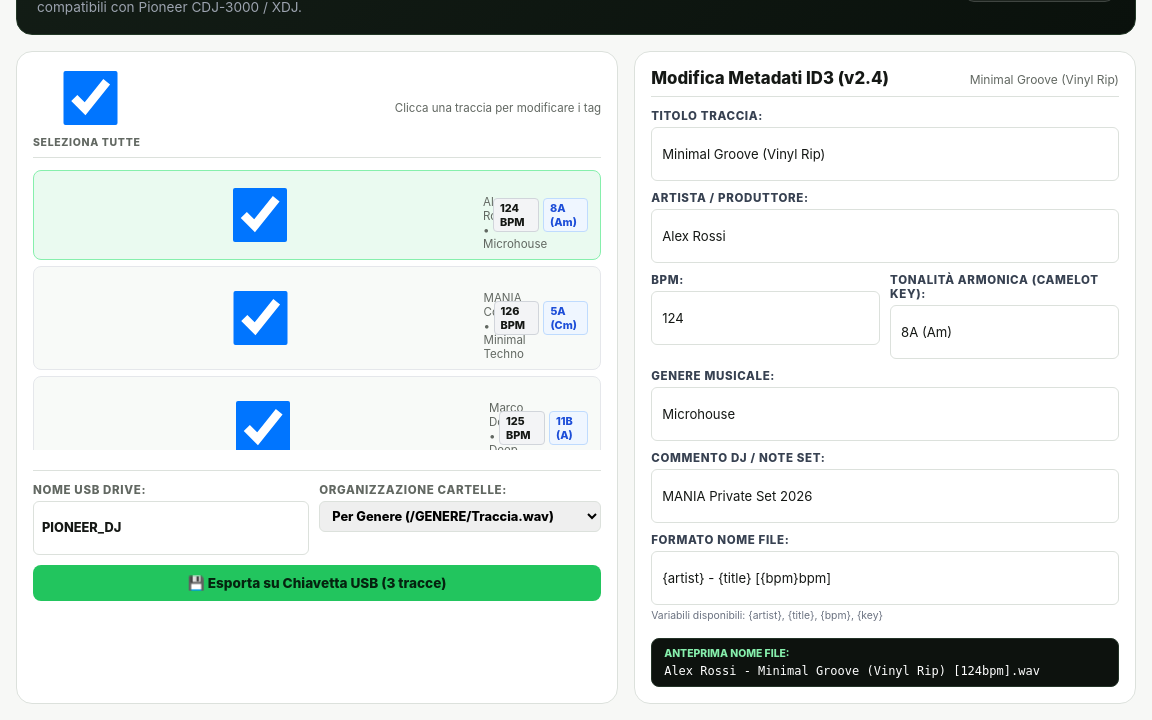
producer features › renderizza editor ID3 ed esportatore Rekordbox USB
(page scrolled)
Click the button "💾 Esporta su Chiavetta USB (3 tracce)" at coordinates (317, 583), box [33,565,601,601]
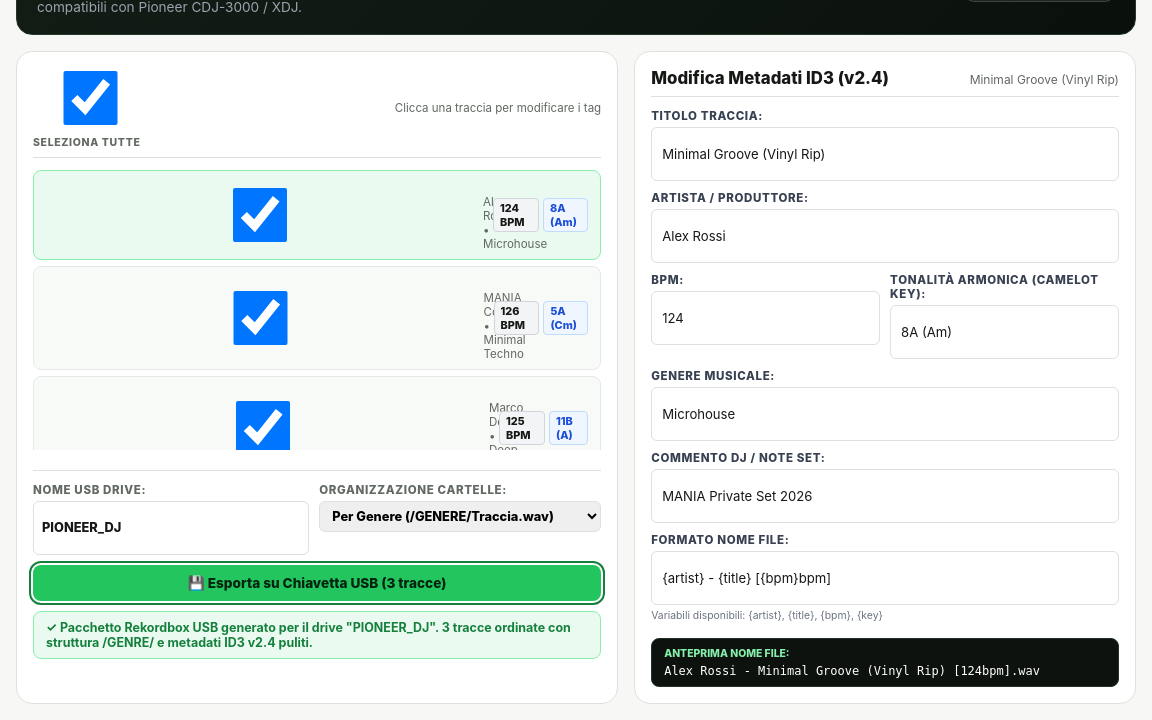
Check: the message shows "Pacchetto Rekordbox USB generato", box [46,620,571,650]
